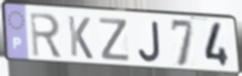4: (203, 21, 234, 71)
7: (169, 17, 195, 69)
J: (137, 20, 163, 64)
K: (66, 14, 95, 61)
R: (28, 11, 64, 59)
Z: (98, 16, 132, 63)
